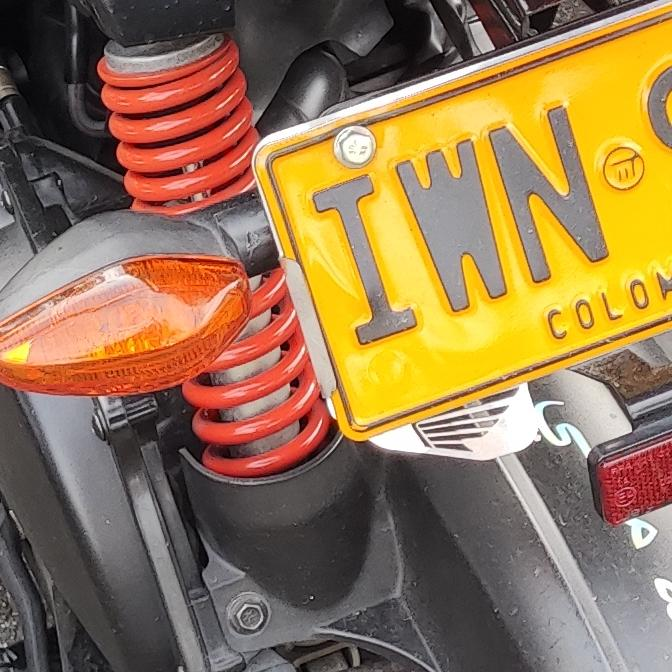plates: (246, 1, 672, 441)
